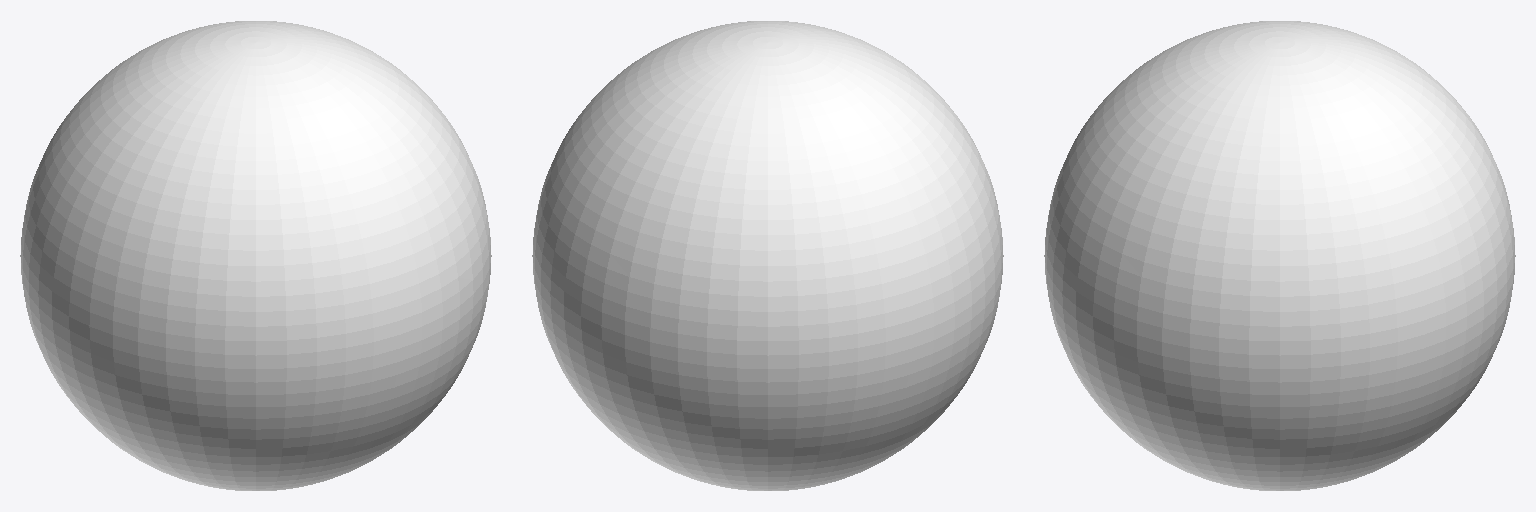
The model's file is earth.obj.
3 views of the same model, side by side, from view 1: azimuth 30°, elevation 25°; view 2: azimuth 150°, elevation 25°; view 3: azimuth 270°, elevation 25° (orthographic).
Parts seen in each view (by area): view 1: Mesh_sphere_lwo_Layer1; view 2: Mesh_sphere_lwo_Layer1; view 3: Mesh_sphere_lwo_Layer1.
Boxes of the visible parts, x1,y1,x2,y2 form: Mesh_sphere_lwo_Layer1: [20, 21, 491, 490]; Mesh_sphere_lwo_Layer1: [532, 21, 1003, 490]; Mesh_sphere_lwo_Layer1: [1044, 21, 1515, 490].
Bounding box in the file's own units: 2 × 2 × 2.